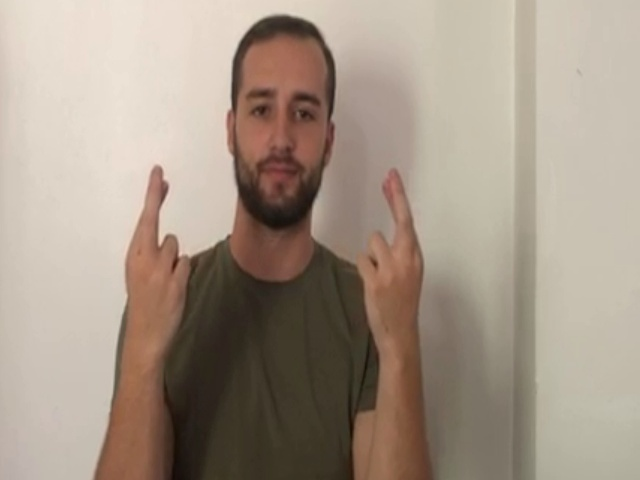Nadevanja: (115, 162, 439, 378)
